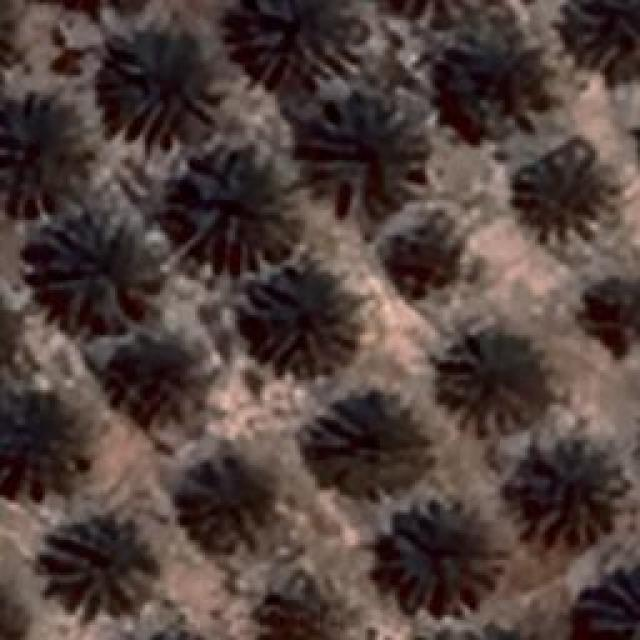PalmTree: (158, 166, 306, 274), (302, 394, 438, 502), (382, 498, 502, 612), (108, 29, 225, 142), (510, 432, 622, 550), (45, 218, 160, 332), (304, 102, 428, 200), (248, 270, 360, 378), (40, 517, 160, 615), (181, 438, 284, 546), (238, 0, 360, 85), (435, 340, 540, 435), (0, 376, 80, 496), (106, 338, 209, 430), (372, 208, 472, 302), (458, 34, 548, 128), (0, 99, 82, 202), (524, 152, 614, 232), (250, 573, 354, 640), (576, 274, 640, 362), (562, 0, 635, 72), (580, 562, 635, 636), (378, 0, 491, 36), (0, 571, 29, 640), (0, 0, 22, 87), (0, 286, 22, 372)
